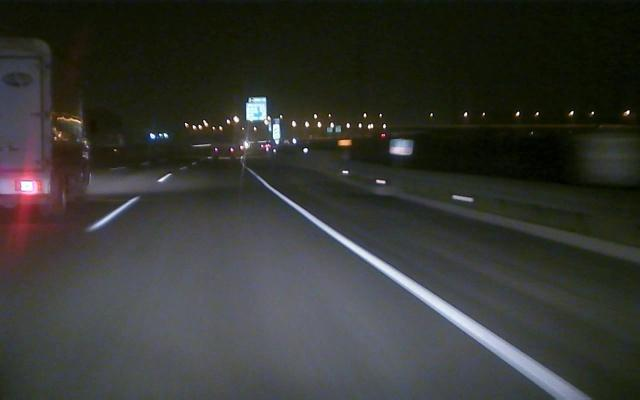lane: (259, 178, 592, 398), (83, 174, 169, 231)
